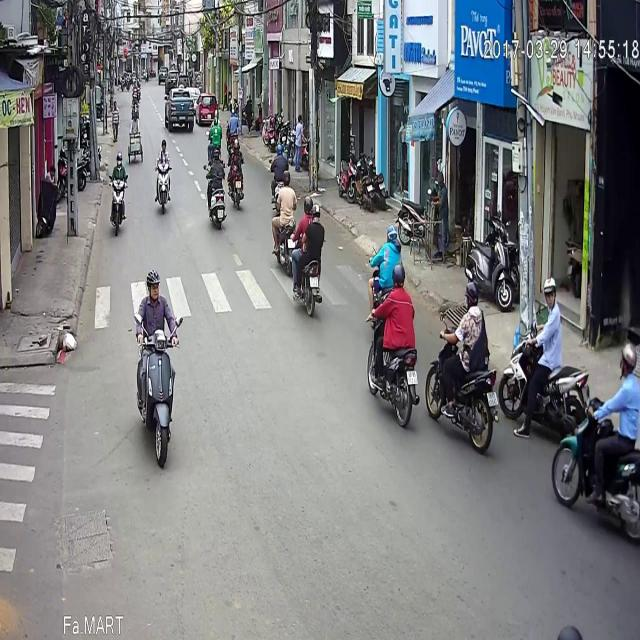car: (162, 29, 194, 74), (196, 36, 218, 68)
motorcycle: (551, 284, 640, 486), (497, 219, 590, 384), (424, 224, 498, 396), (133, 210, 183, 410), (366, 206, 420, 369), (290, 138, 324, 258), (270, 113, 296, 219), (202, 91, 226, 170), (108, 92, 128, 178), (226, 79, 244, 153), (154, 81, 172, 155)
